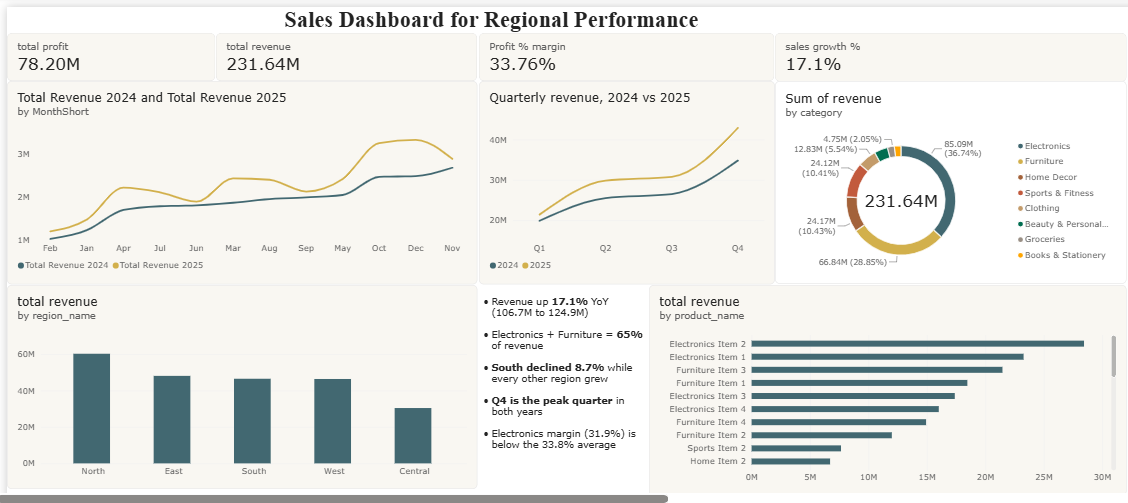

The dashboard page shown, as its layout file describes it:
{"tool":"powerbi","page":{"name":"Page 1","canvas":[3822,2160],"ordinal":0},"visuals":[{"type":"cardVisual","fields":{"Data":["sales_fact_.total revenue"]},"box":[347.8,43.3,435.8,80.6],"z":0},{"type":"cardVisual","fields":{"Data":["sales_fact_.total profit"]},"box":[0,43.3,347.8,80.6],"z":1000},{"type":"cardVisual","fields":{"Data":["sales_fact_.Profit % margin 2"]},"box":[786.6,43.3,492.5,80.6],"z":2000},{"type":"cardVisual","fields":{"Data":["sales_fact_.sales growth %"]},"box":[1279.1,43.3,562.7,80.6],"z":3000},{"type":"barChart","fields":{"Category":["dim_product_.product_name"],"Y":["sales_fact_.total revenue"]},"box":[1070.1,462.7,795.5,350.7],"z":4000},{"type":"clusteredColumnChart","fields":{"Category":["dim_region_.region_name"],"Y":["sales_fact_.total revenue"]},"box":[0,462.7,783.6,340.3],"z":5000},{"type":"lineChart","fields":{"Category":["DimDate.MonthShort"],"Y":["sales_fact_.Total Revenue 2024","sales_fact_.Total Revenue 2025"]},"box":[0,123.9,783.6,338.8],"z":6000},{"type":"lineChart","title":"Quarterly revenue, 2024 vs 2025","fields":{"Category":["DimDate.Quarter"],"Series":["DimDate.Year"],"Y":["Sum(sales_fact_.revenue)"]},"box":[786.6,123.9,492.5,338.8],"z":7000},{"type":"donutChart","fields":{"Category":["dim_product_.category"],"Y":["Sum(sales_fact_.revenue)"]},"box":[1279.1,123.9,562.7,338.8],"z":8000},{"type":"textbox","box":[164.2,0,1247.8,53.7],"z":9000},{"type":"textbox","box":[783.6,462.7,286.6,340.3],"z":10000}]}

Visuals, with their boxes on the page's 3822x2160 design canvas (x1, y1, x2, y2). These are canvas units, not pixel positions in the 1128x503 screenshot, which may show the page scaled, cropped or inside an application window:
cardVisual - sales_fact_.total revenue: l=348, t=43, r=784, b=124
cardVisual - sales_fact_.total profit: l=0, t=43, r=348, b=124
cardVisual - sales_fact_.Profit % margin 2: l=787, t=43, r=1279, b=124
cardVisual - sales_fact_.sales growth %: l=1279, t=43, r=1842, b=124
barChart - dim_product_.product_name x sales_fact_.total revenue: l=1070, t=463, r=1866, b=813
clusteredColumnChart - dim_region_.region_name x sales_fact_.total revenue: l=0, t=463, r=784, b=803
lineChart - DimDate.MonthShort x sales_fact_.Total Revenue 2024: l=0, t=124, r=784, b=463
"Quarterly revenue, 2024 vs 2025" lineChart: l=787, t=124, r=1279, b=463
donutChart - dim_product_.category x Sum(sales_fact_.revenue): l=1279, t=124, r=1842, b=463
textbox: l=164, t=0, r=1412, b=54
textbox: l=784, t=463, r=1070, b=803
